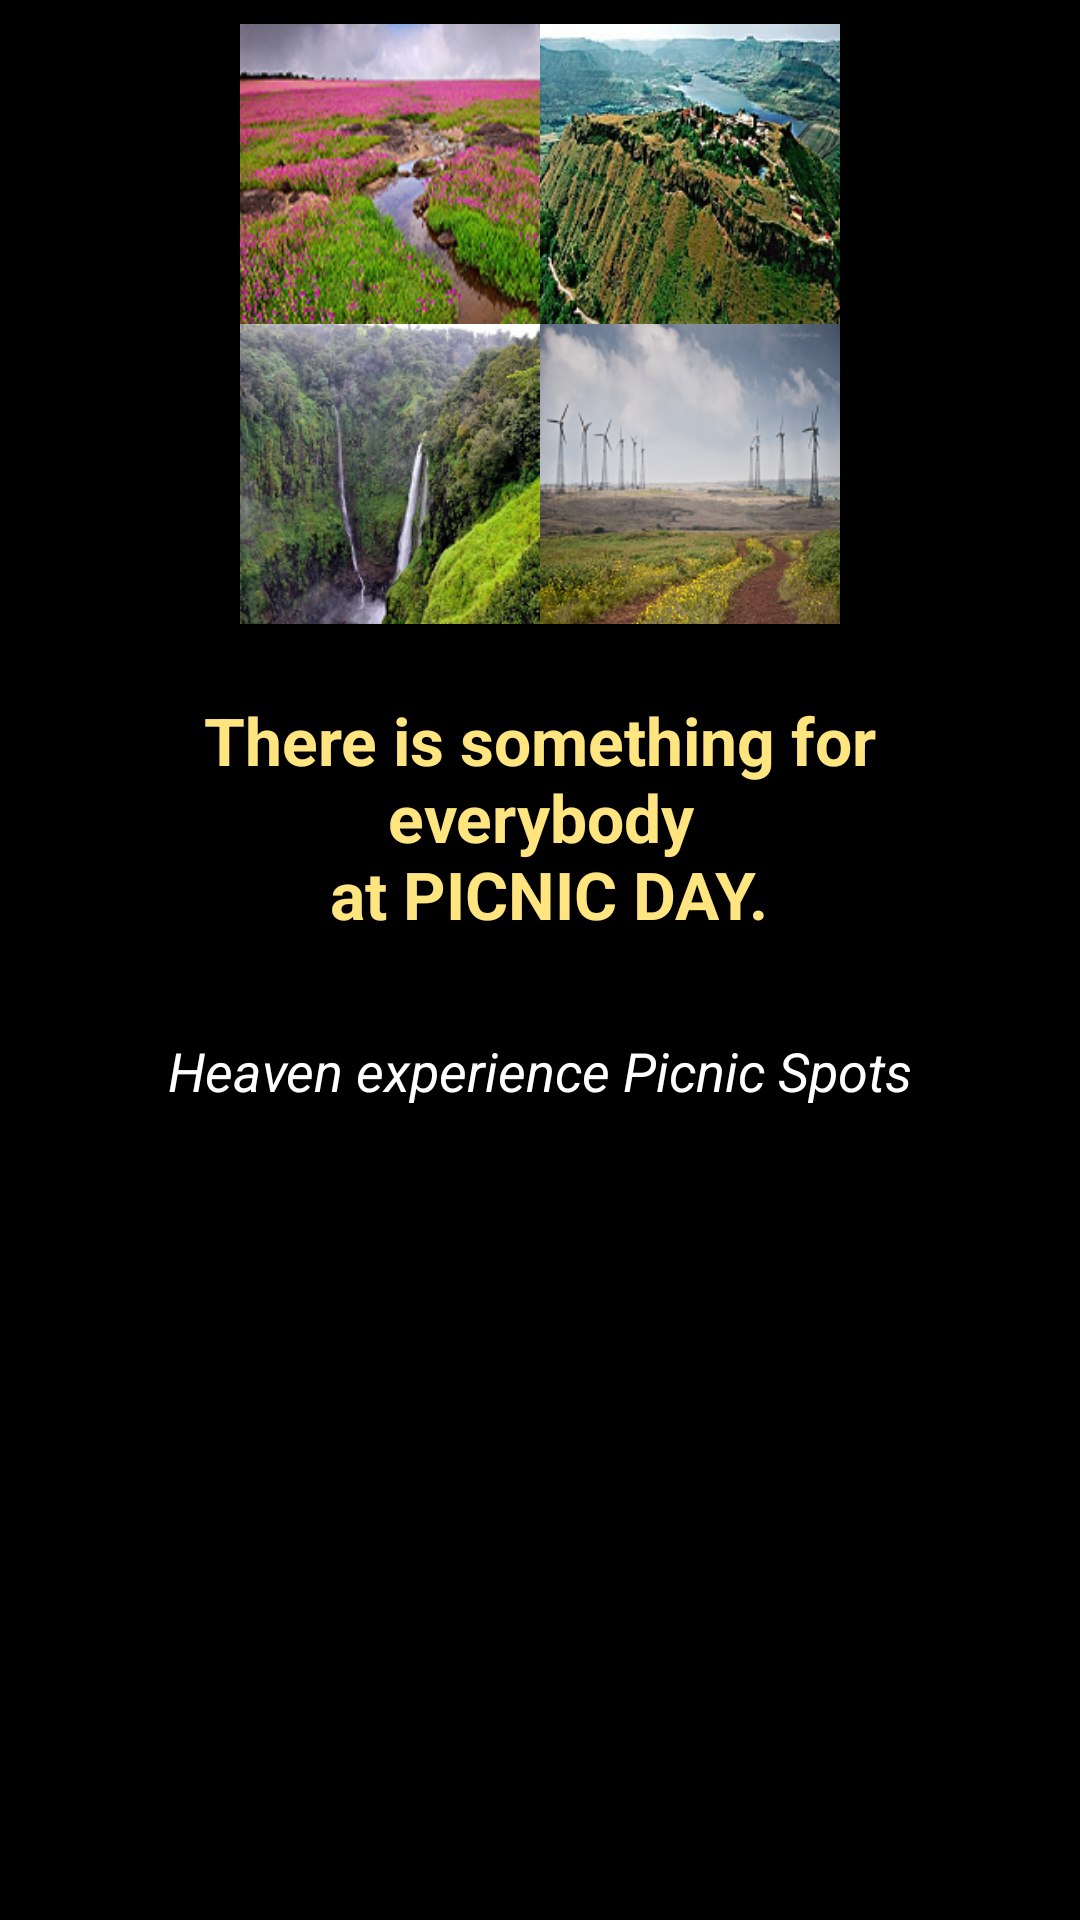

Screen size 1080x1920. Icon name, then its center in pixels as [x,y]:
kaas: [390,174]
sajjangad fort: [690,174]
toseghar: [390,474]
wind farm: [690,474]
